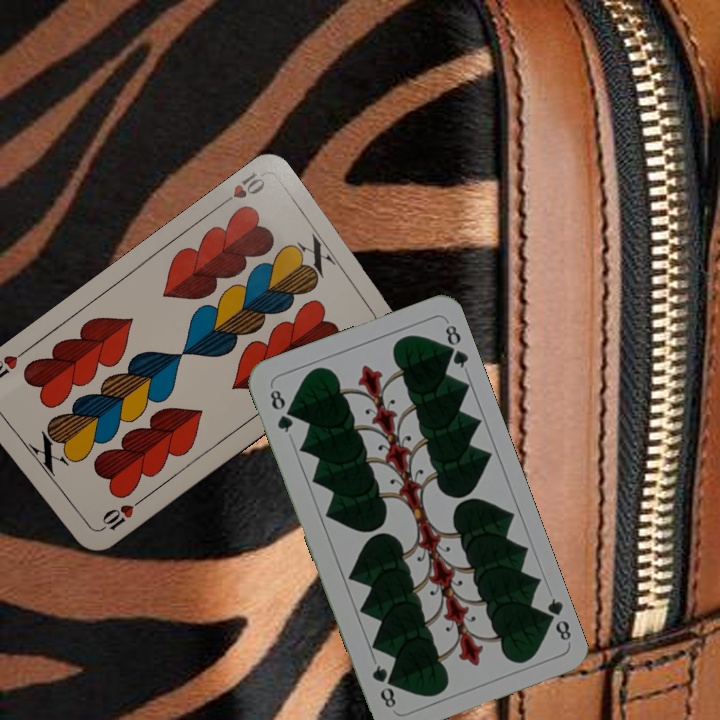G8: (537, 594, 574, 644), (265, 385, 296, 436)
H10: (214, 168, 268, 211), (92, 495, 145, 535)
